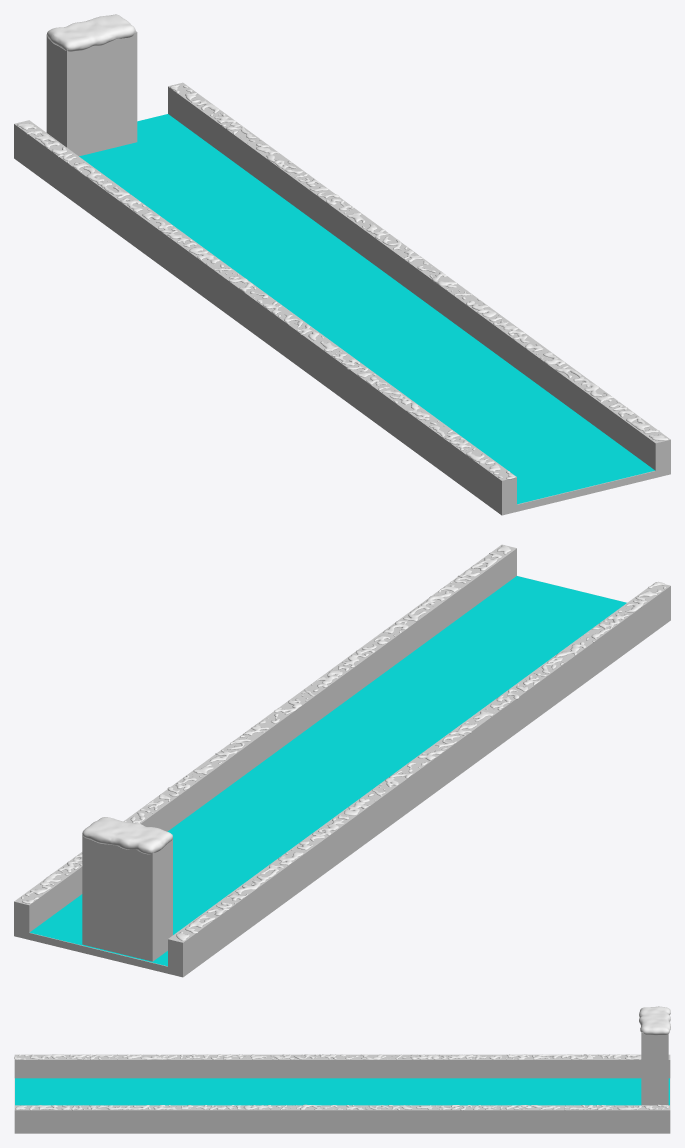
Rendered from Map369.fbx.
3 renders of one model, top to bottom at view 1: azimuth 30°, elevation 25°; view 2: azimuth 150°, elevation 25°; view 3: azimuth 270°, elevation 25°, orthographic. The views are drawn at different scales.
Visible parts, largest first — view 1: Plane.001, Cube.001, Cube.002, SnowBall.002, SnowBall.003, SnowBall.001; view 2: Plane.001, Cube.001, Cube.002, SnowBall.003, SnowBall.002, SnowBall.001; view 3: Cube.001, Plane.001, SnowBall.002, SnowBall.003, Cube.002, SnowBall.001.
Boxes of the visible parts, x1,y1,x2,y2 form: Plane.001: (79,114,654,504); Cube.001: (14,82,670,515); Cube.002: (46,31,137,156); SnowBall.002: (170,84,668,440); SnowBall.003: (17,123,515,479); SnowBall.001: (47,14,135,51); Plane.001: (30,576,626,966); Cube.001: (14,544,670,977); Cube.002: (82,834,172,961); SnowBall.003: (176,582,665,940); SnowBall.002: (21,545,510,903); SnowBall.001: (82,817,172,854); Cube.001: (14,1054,670,1133); Plane.001: (15,1078,669,1105); SnowBall.002: (15,1104,668,1110); SnowBall.003: (14,1054,641,1059); Cube.002: (641,1032,668,1105); SnowBall.001: (639,1006,670,1035).
Size of the model in its own units: 244 by 168 by 1205.
